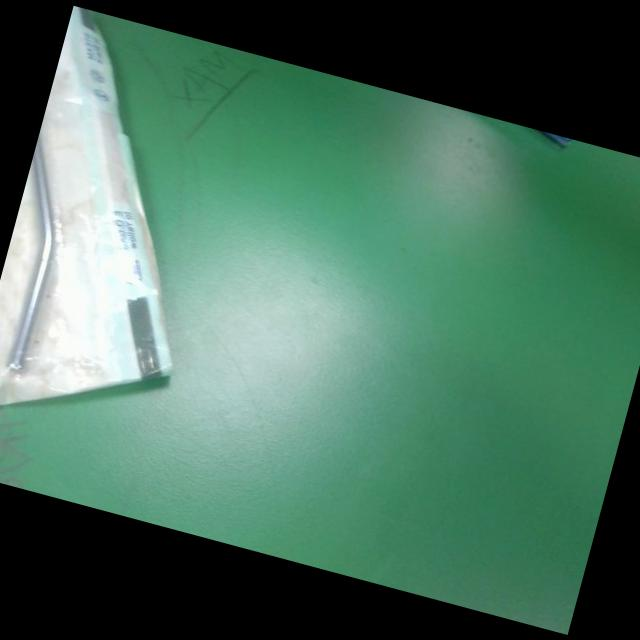triple_syringe: (0, 5, 255, 460)
